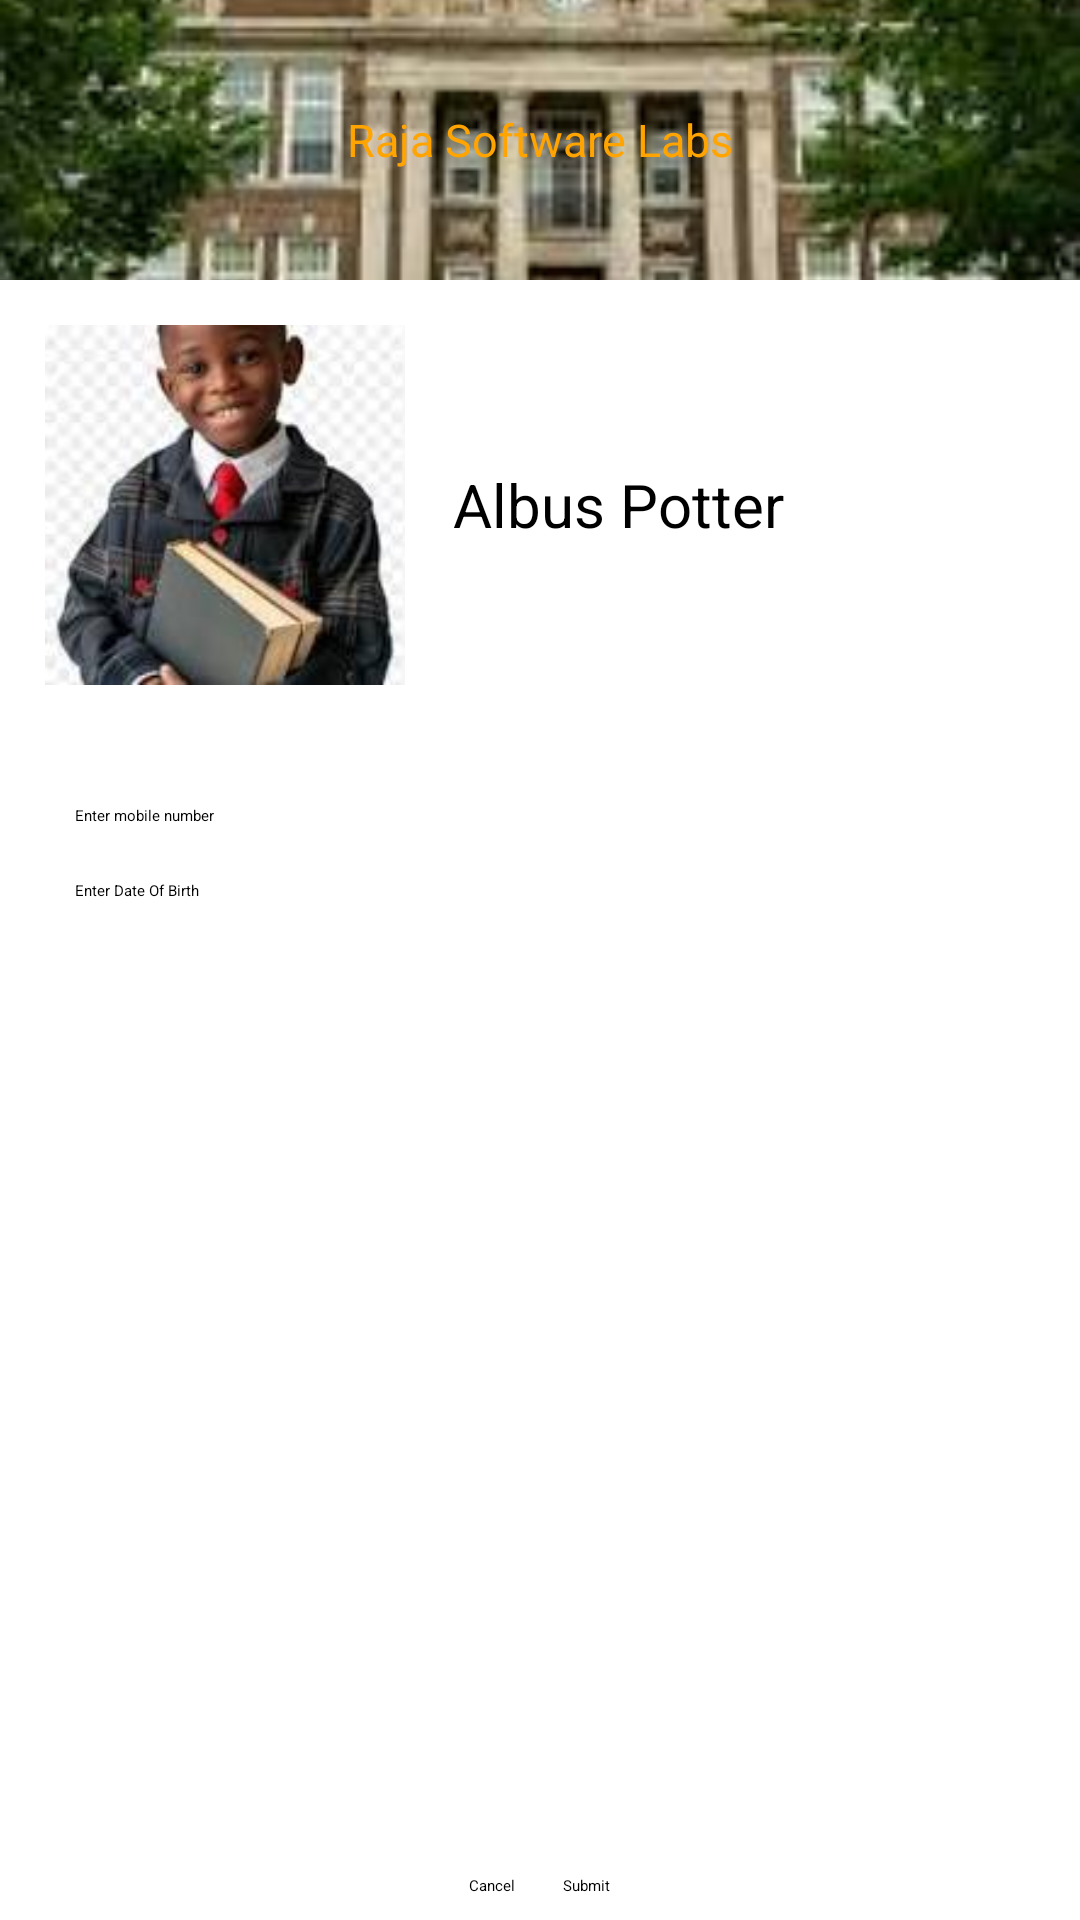

Locate icon controls on the screen. Image size 1080×1920, boxes as (x1, y1, x2, y2).
student: (45, 325, 398, 685)
